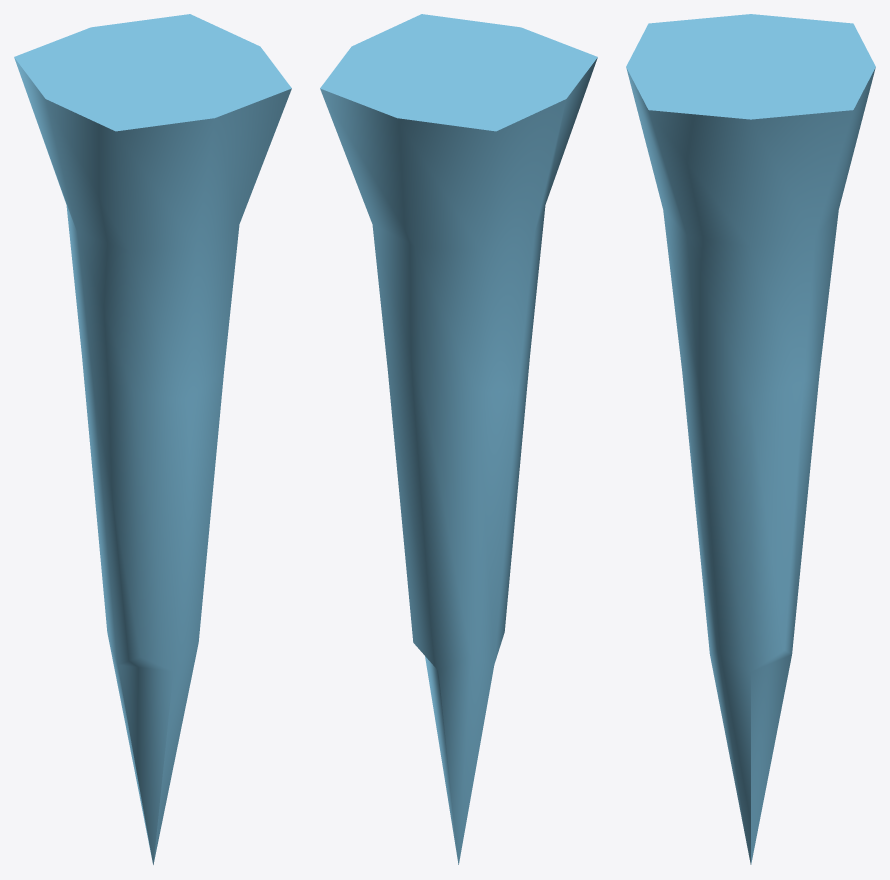
The model's file is EstalactitaProp.fbx.
3 renders of one model, left to right at view 1: azimuth 30°, elevation 25°; view 2: azimuth 150°, elevation 25°; view 3: azimuth 270°, elevation 25°, orthographic.
Visible parts, largest first — view 1: Estalactita; view 2: Estalactita; view 3: Estalactita.
Part boxes in pixels (left/top/right/bottom): Estalactita: left=14, top=14, right=291, bottom=864; Estalactita: left=320, top=14, right=597, bottom=864; Estalactita: left=626, top=14, right=875, bottom=864.
Size of the model in its own units: 0.4722 by 1.67 by 0.4722.
